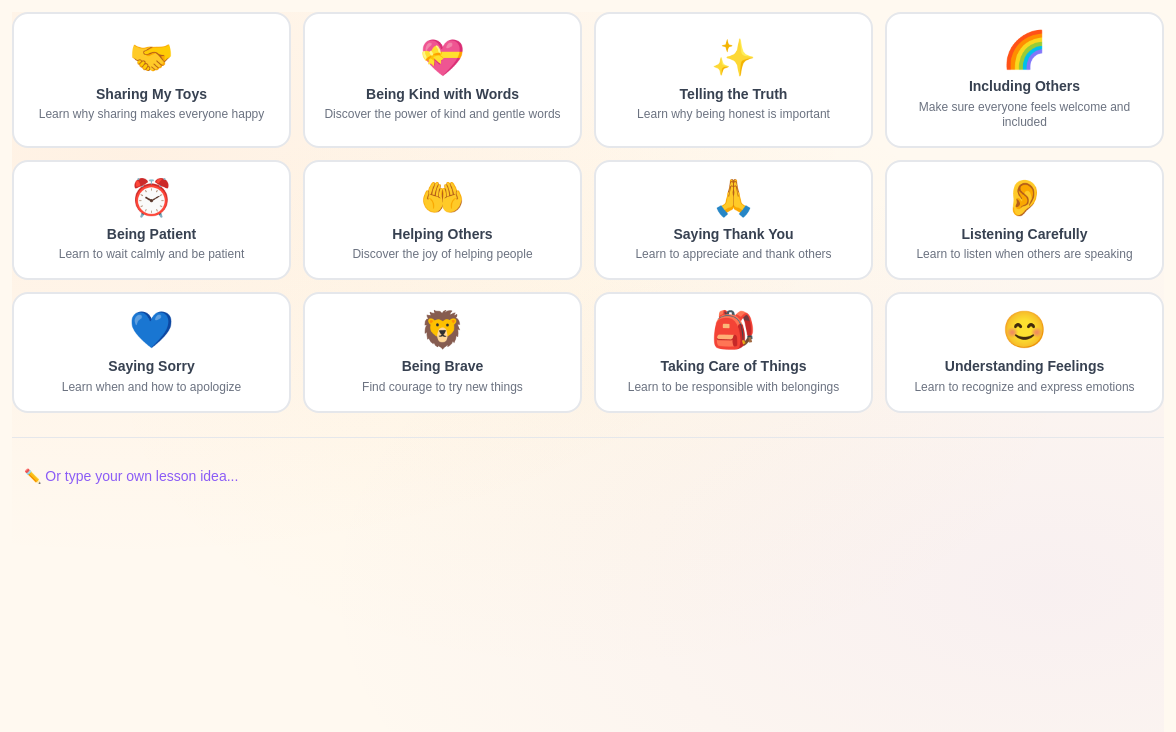
Test case: LessonSelector › Validation Failure Handling (Requirement 4.6) › shows retry message when API returns non-ok response
The image size is (1176, 732).
Click the button "✏️ Or type your own lesson idea...": [131, 476] box x1=12 y1=454 x2=250 y2=498
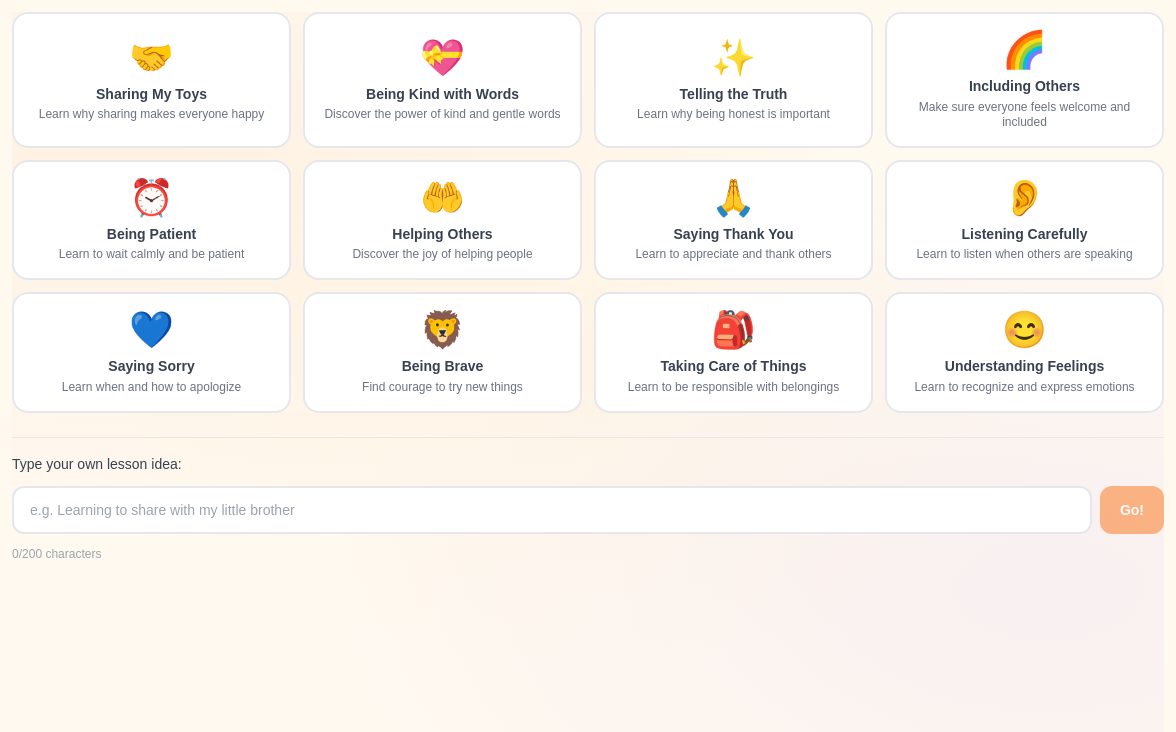
In the field labelled "Type your own lesson idea:": [552, 510] box x1=12 y1=486 x2=1092 y2=534, type "a valid topic here"
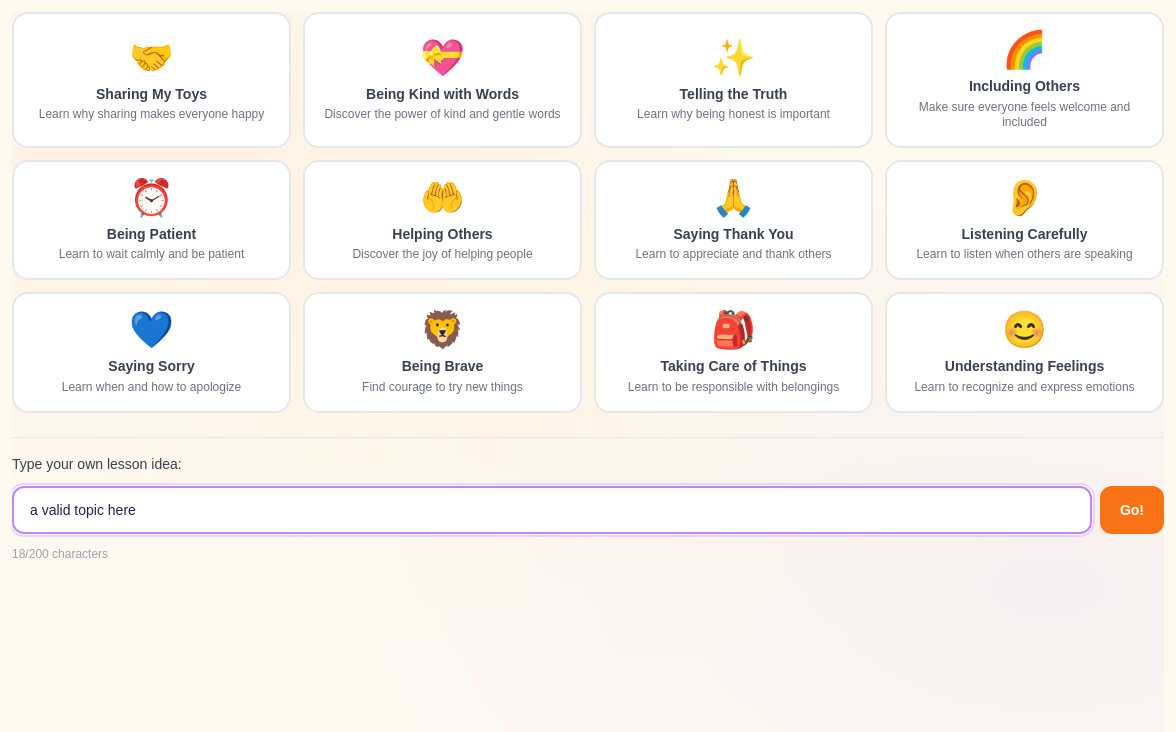
Click the button with aria-label "submit custom lesson": [1132, 510] box x1=1100 y1=486 x2=1164 y2=534
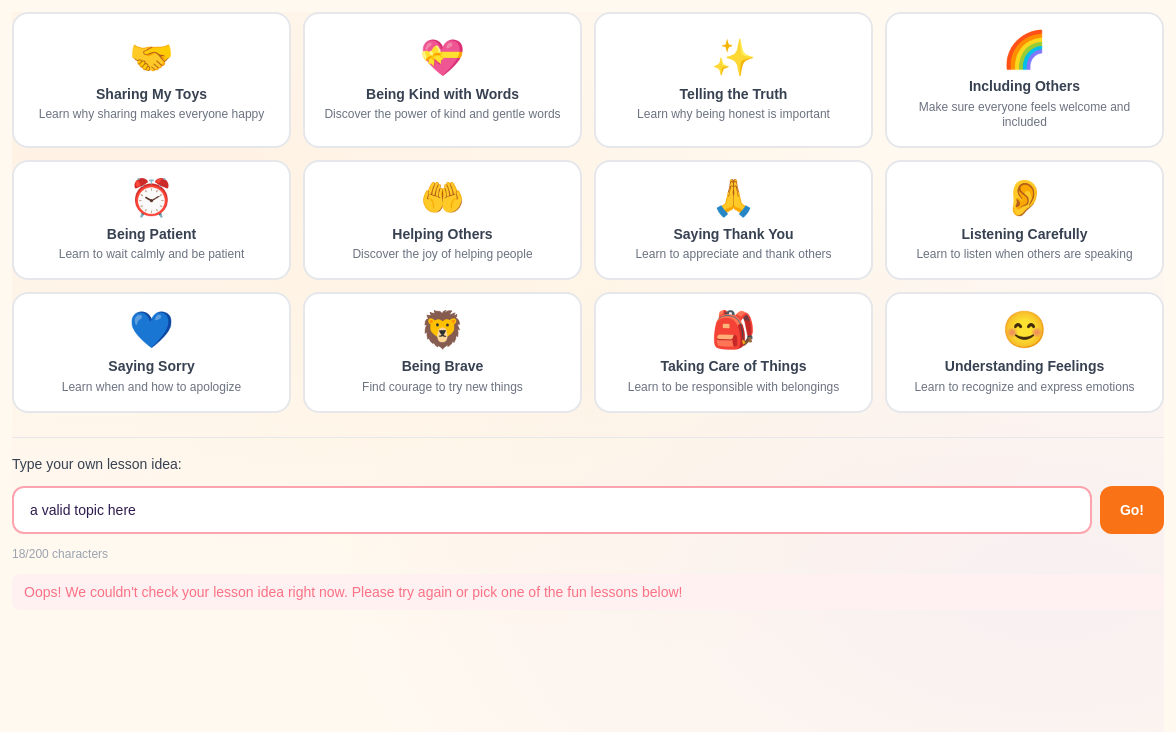
Check: the message is shown, box x1=12 y1=574 x2=1164 y2=610
Check: the text "couldn't check your lesson idea" is shown, box x1=24 y1=584 x2=682 y2=600
